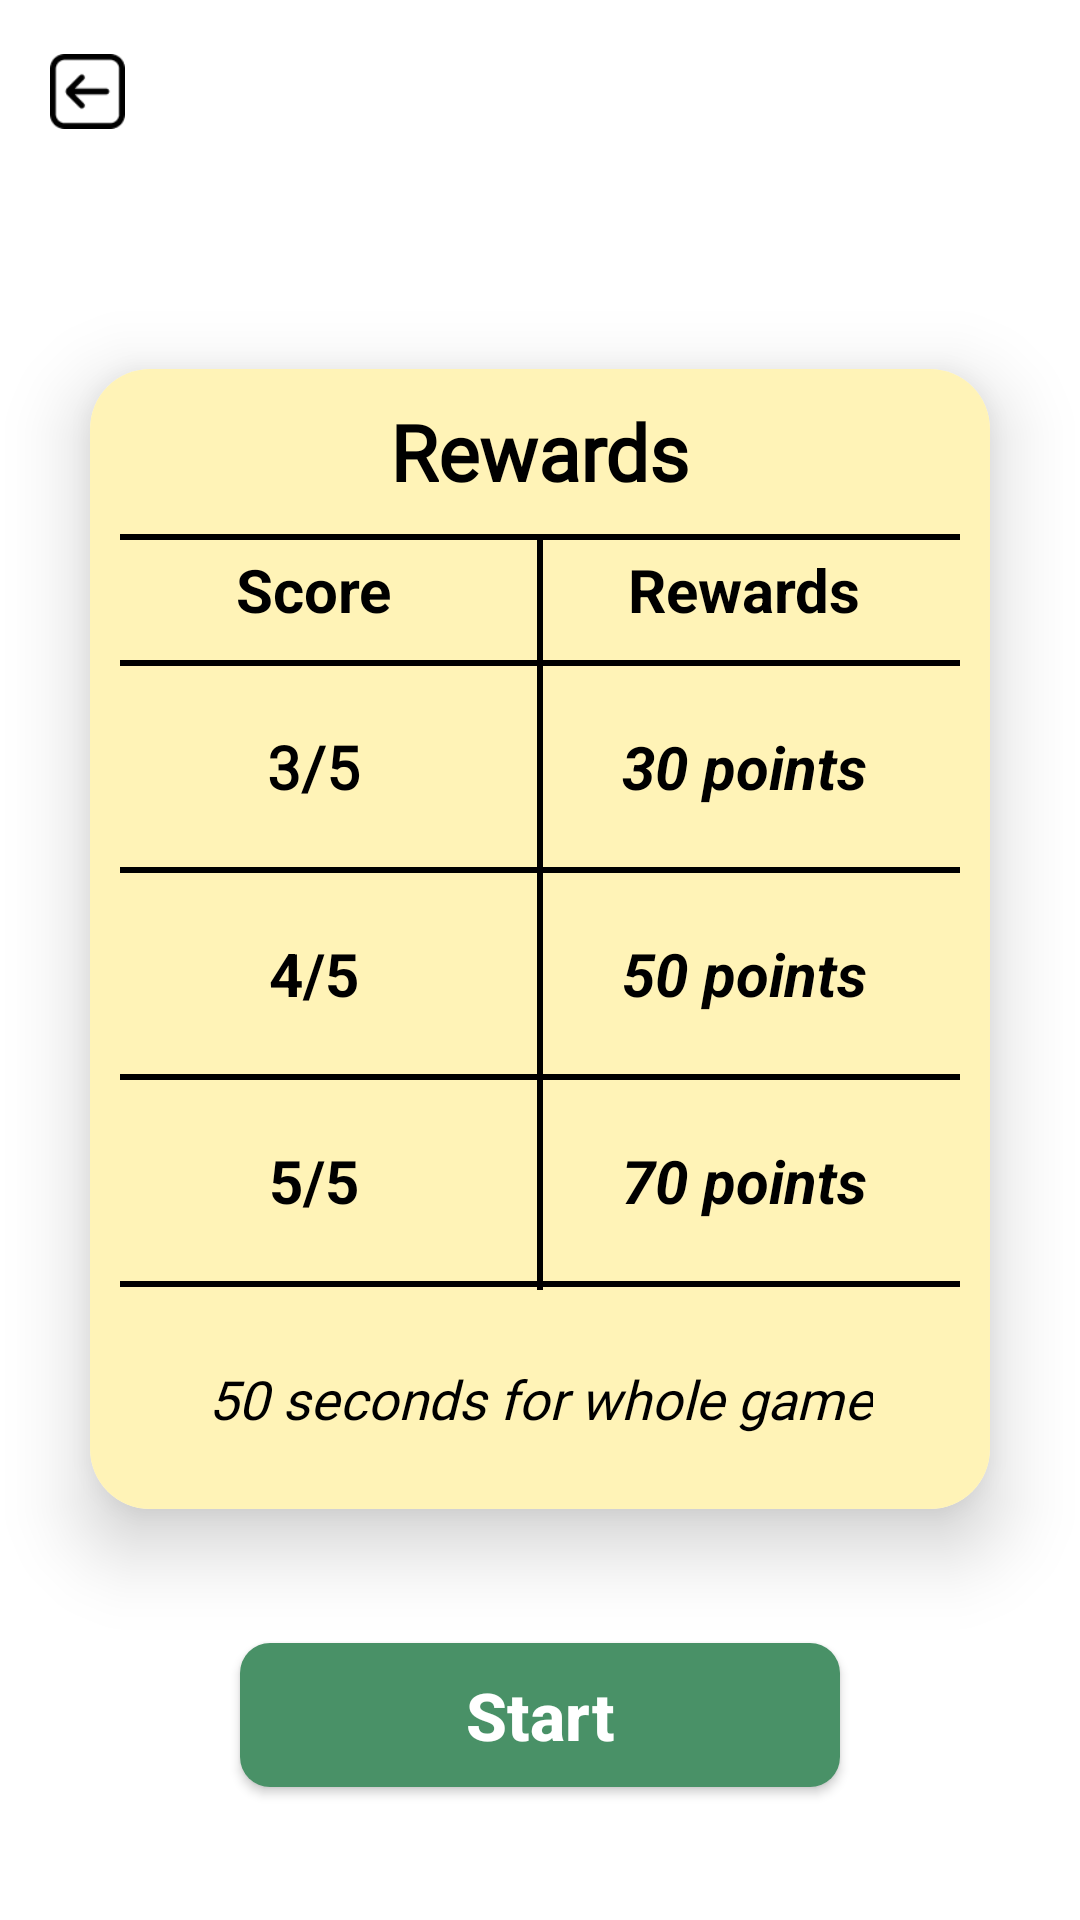

Named icons in this screenshot (1080 x 1920) and their centers, point (x, y):
back: point (87, 91)
